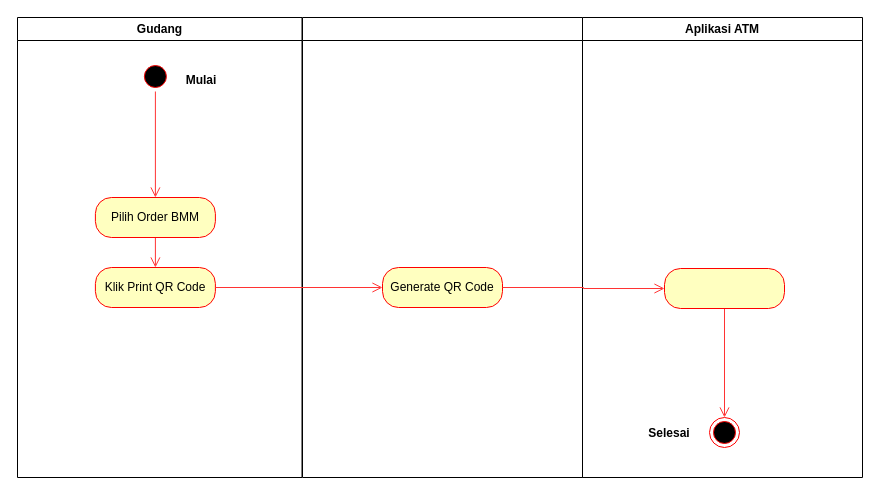
Image size: 880x495. Some labels were removed from this diagram. The box of each missing label's shape, as (x1, y1, x2, y2) in pixels:
Cetak QR Code: (664, 268, 784, 308)
Control Gudang: (302, 16, 582, 478)
